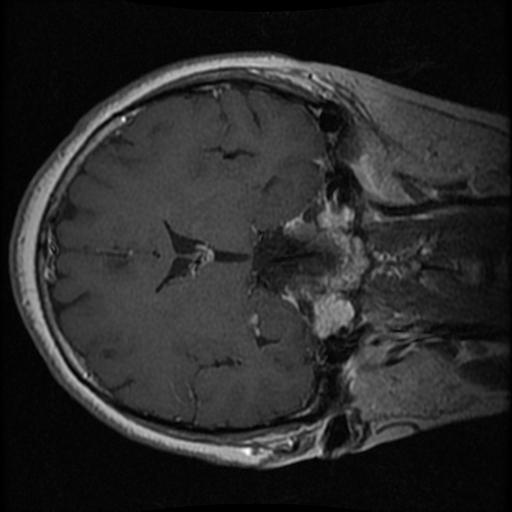pituitary tumour: (282, 218, 318, 243)
